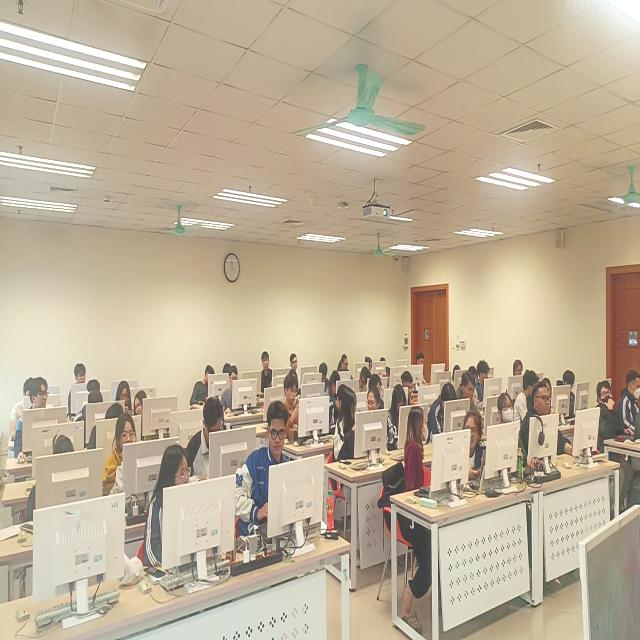raise_head: (146, 445, 192, 569), (523, 383, 569, 461), (497, 393, 526, 461), (595, 381, 619, 443), (69, 364, 87, 422), (261, 351, 274, 397), (290, 353, 299, 377)
using_computer: (234, 400, 289, 542), (102, 413, 137, 497), (189, 398, 225, 478), (88, 404, 124, 452), (11, 379, 37, 442), (428, 384, 457, 440), (617, 370, 640, 435), (387, 384, 407, 454), (515, 370, 540, 424), (557, 371, 578, 419), (329, 385, 349, 435), (74, 391, 105, 423), (222, 366, 239, 415), (402, 371, 419, 407), (477, 361, 491, 404), (457, 372, 477, 400), (53, 433, 76, 456), (324, 371, 341, 399), (418, 353, 431, 387), (469, 366, 479, 402), (358, 367, 371, 393), (370, 374, 384, 397), (319, 363, 331, 387), (338, 354, 351, 373), (543, 378, 554, 398), (88, 378, 101, 393), (514, 359, 524, 377), (453, 365, 462, 385), (366, 355, 373, 373), (381, 357, 387, 363)
using_phone: (284, 375, 301, 442), (116, 382, 133, 414)
